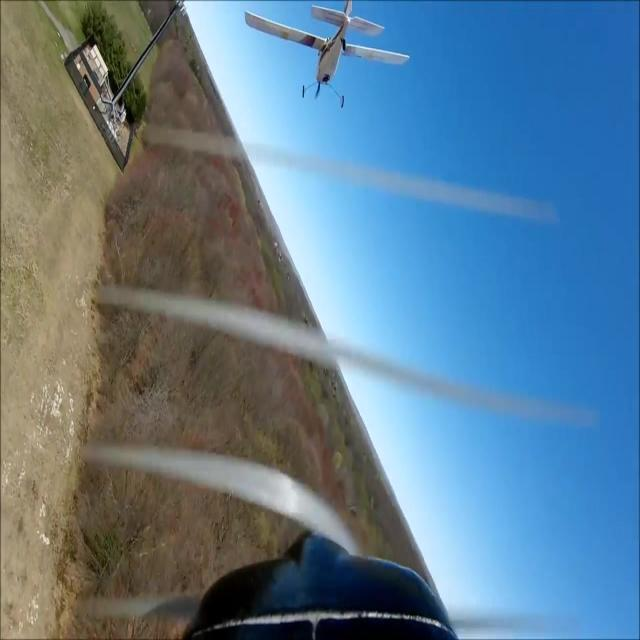iha: (235, 32, 405, 82)
